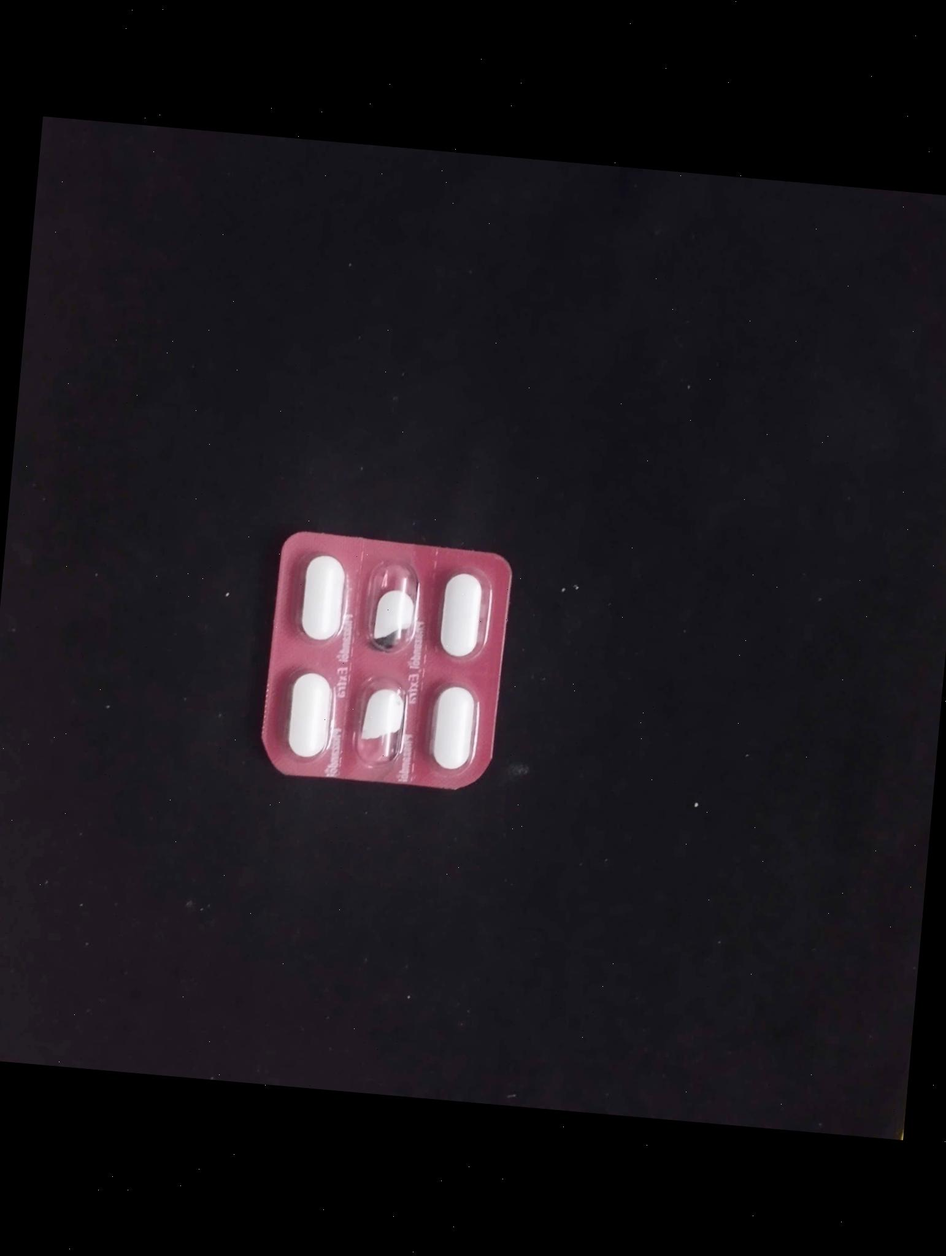Full: (272, 664, 340, 765), (420, 678, 490, 775), (289, 548, 351, 648), (432, 564, 493, 658)
Partial: (355, 658, 411, 772), (364, 556, 425, 656)
